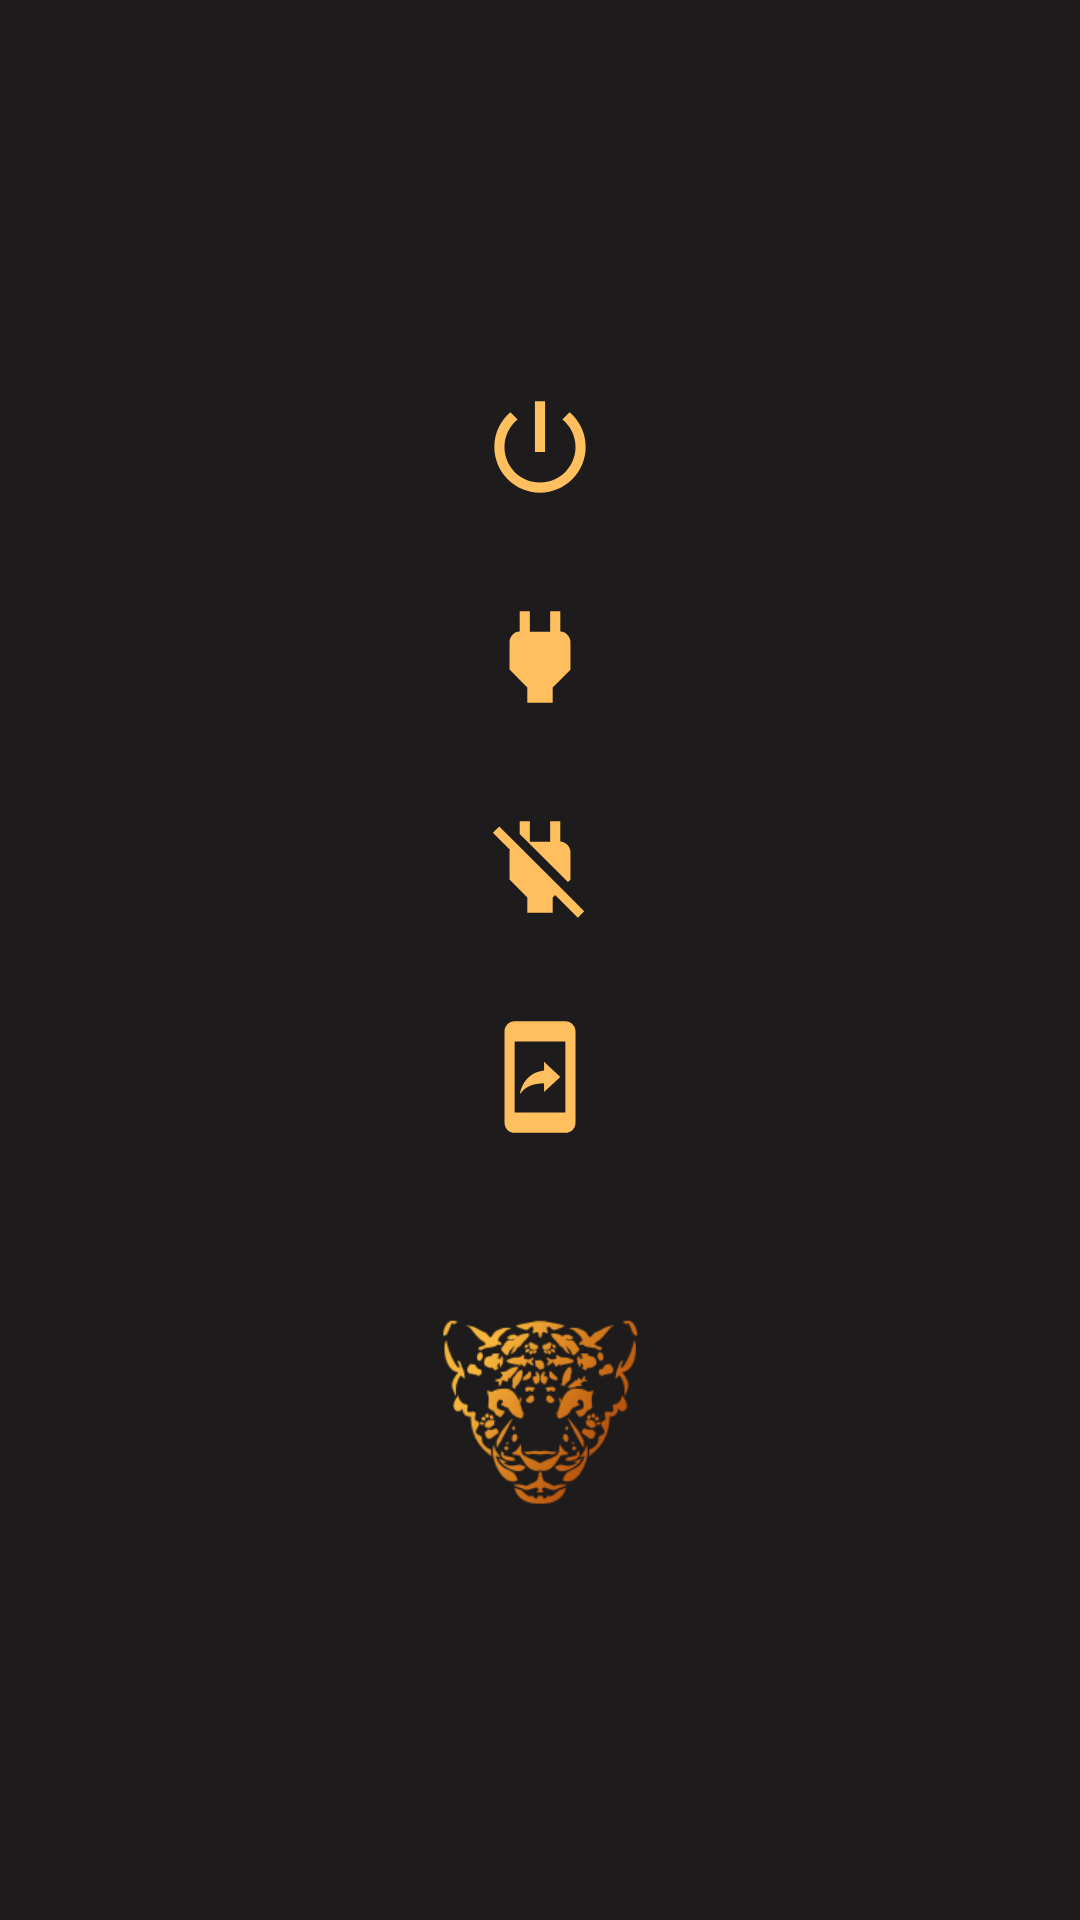

Named icons in this screenshot (1080×1920) and their centers, (x,y):
power: (540,447)
poweroff: (538,869)
poweron: (540,657)
